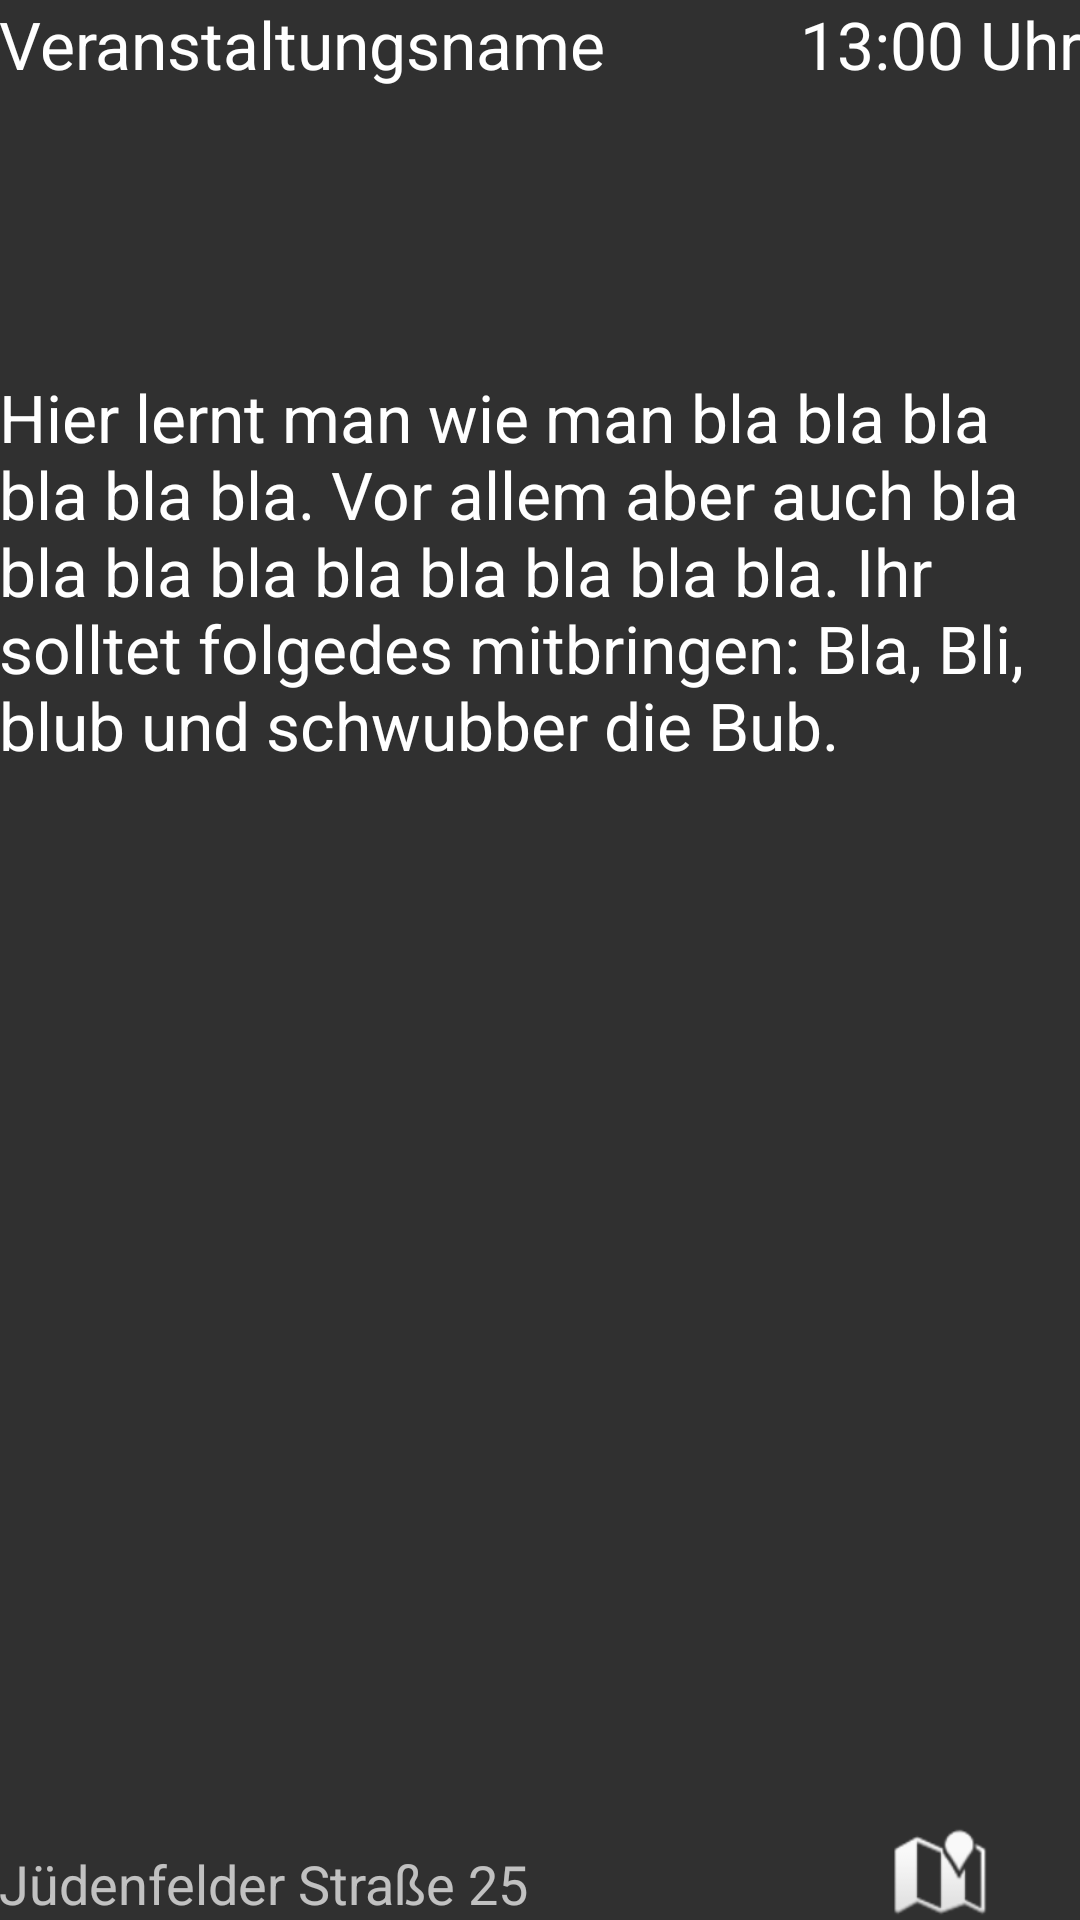

Icon click points for this 1080x1920 phone screenshot, format [x,y]:
map: [940,1872]
